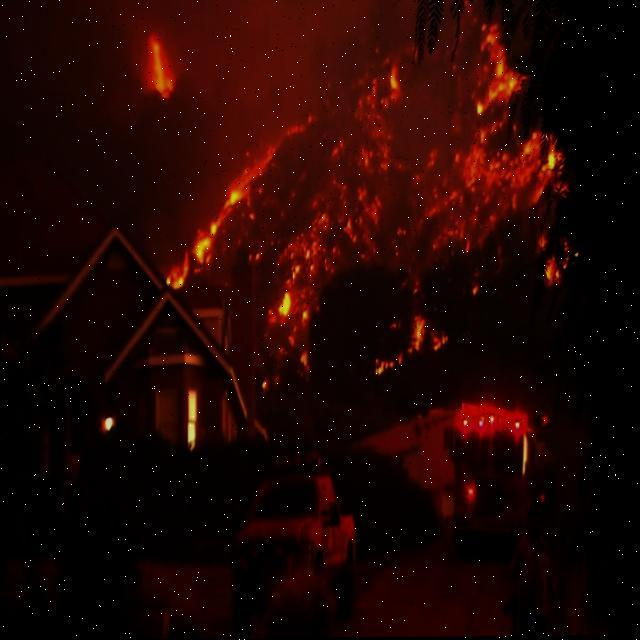Fire: (152, 20, 586, 371)
